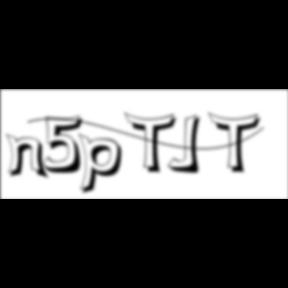5: (42, 114, 88, 176)
J: (168, 114, 208, 176)
T: (124, 112, 182, 176), (209, 112, 267, 176)
n: (6, 132, 53, 181)
p: (79, 132, 129, 198)
